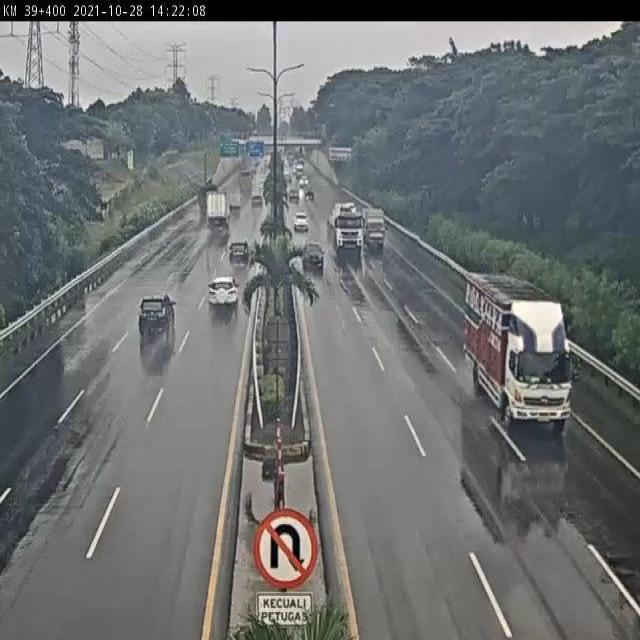car: (136, 290, 183, 342), (206, 269, 245, 316), (229, 236, 256, 268), (301, 242, 326, 274)
truck-l-: (464, 271, 574, 436), (205, 191, 234, 228)
truck-s-: (362, 201, 386, 251)
truck-xl-: (326, 202, 363, 254)
